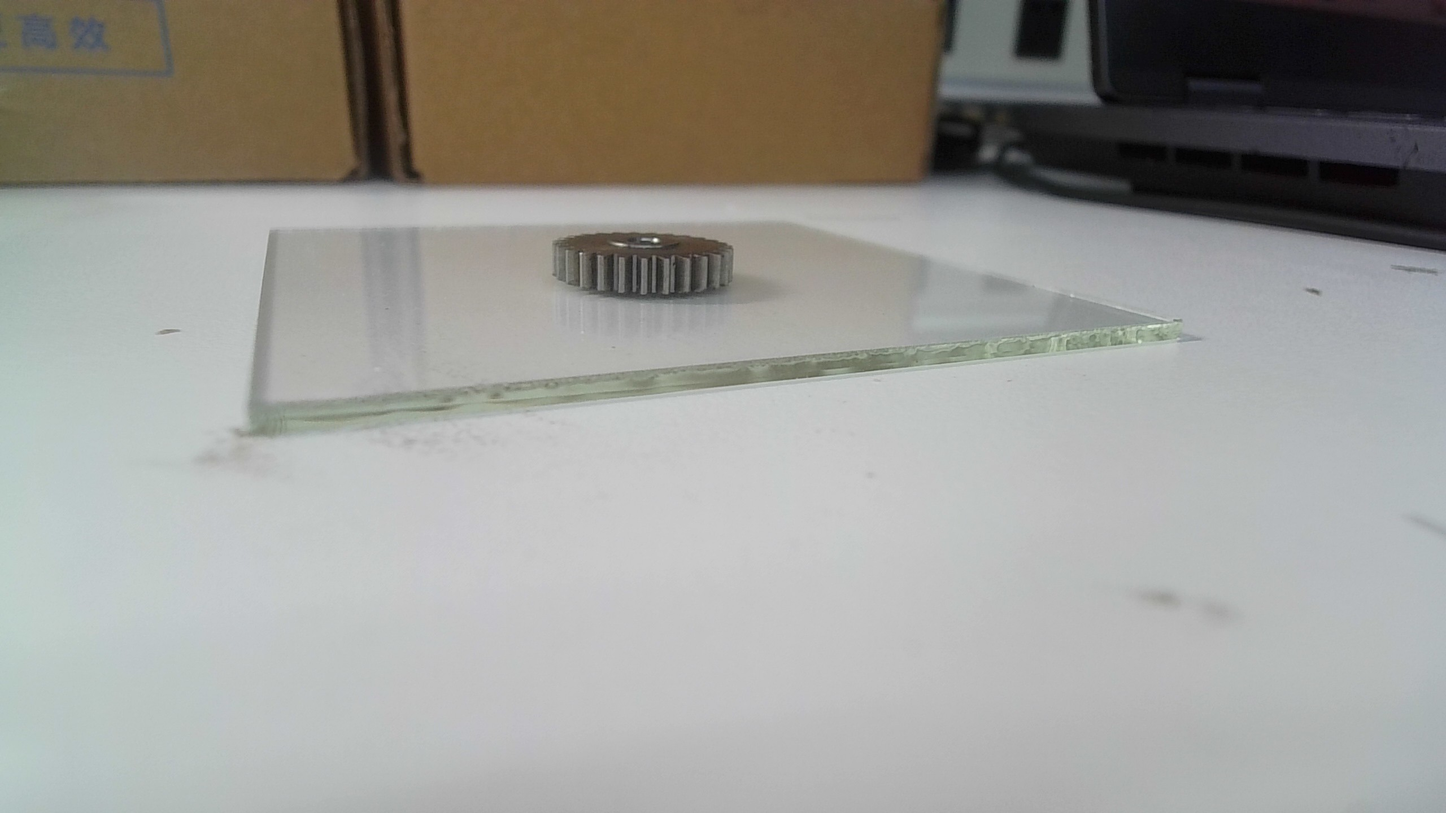gear: (551, 228, 738, 300)
